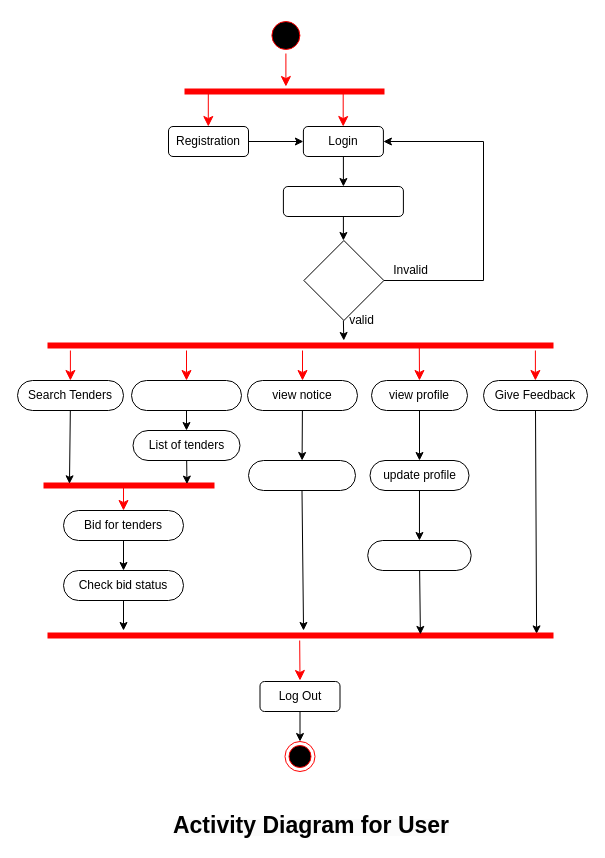
Image size: 605x858. Some labels were removed from this diagram. The centre of each missing label's shape, as x and y in pixels:
Authentication: pixel 342 201
change password: pixel 419 555
checks: pixel 343 280
List of notice: pixel 302 475
view all tenders: pixel 186 395
